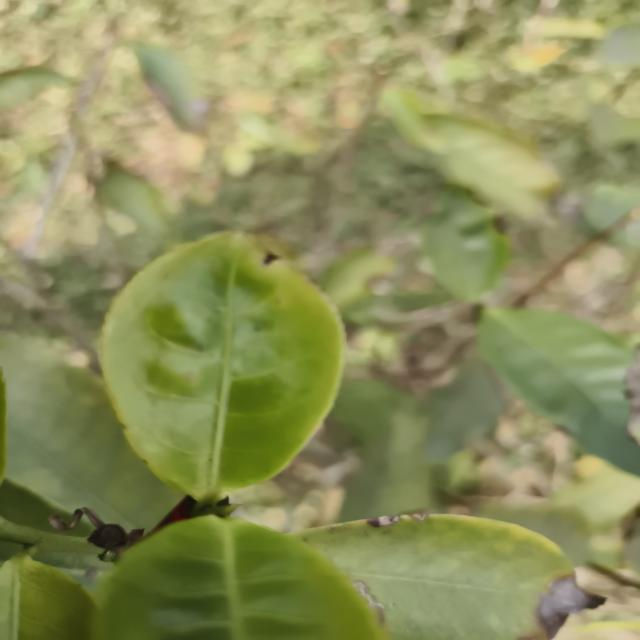Leaf: (101, 232, 344, 500), (291, 514, 601, 640), (94, 515, 385, 640), (0, 335, 179, 529), (478, 308, 640, 474), (427, 115, 559, 217), (423, 188, 509, 303), (421, 357, 510, 462), (95, 161, 173, 270), (0, 555, 96, 640), (131, 42, 209, 132)
